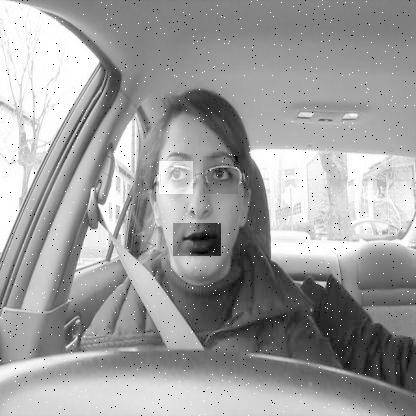seatbelt: (79, 91, 265, 411)
